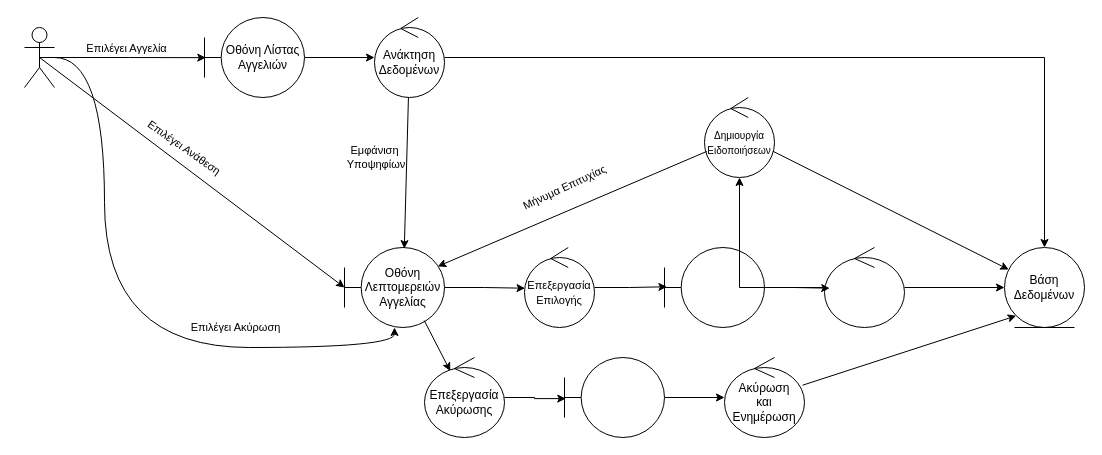
Some shapes in this 1102 by 455 pixel diagram are drawn without their labels. Each missing label, with the centre of its shape:
"Ενημέρωση Κατάστασης" goes at [864,287].
"Εταιρεία" goes at [39,57].
"Οθόνη Επιβεβαίωσης Ακύρωσης" goes at [614,397].
"Οθόνη Επιβεβαίωσης Ανάθεσης" goes at [714,287].
